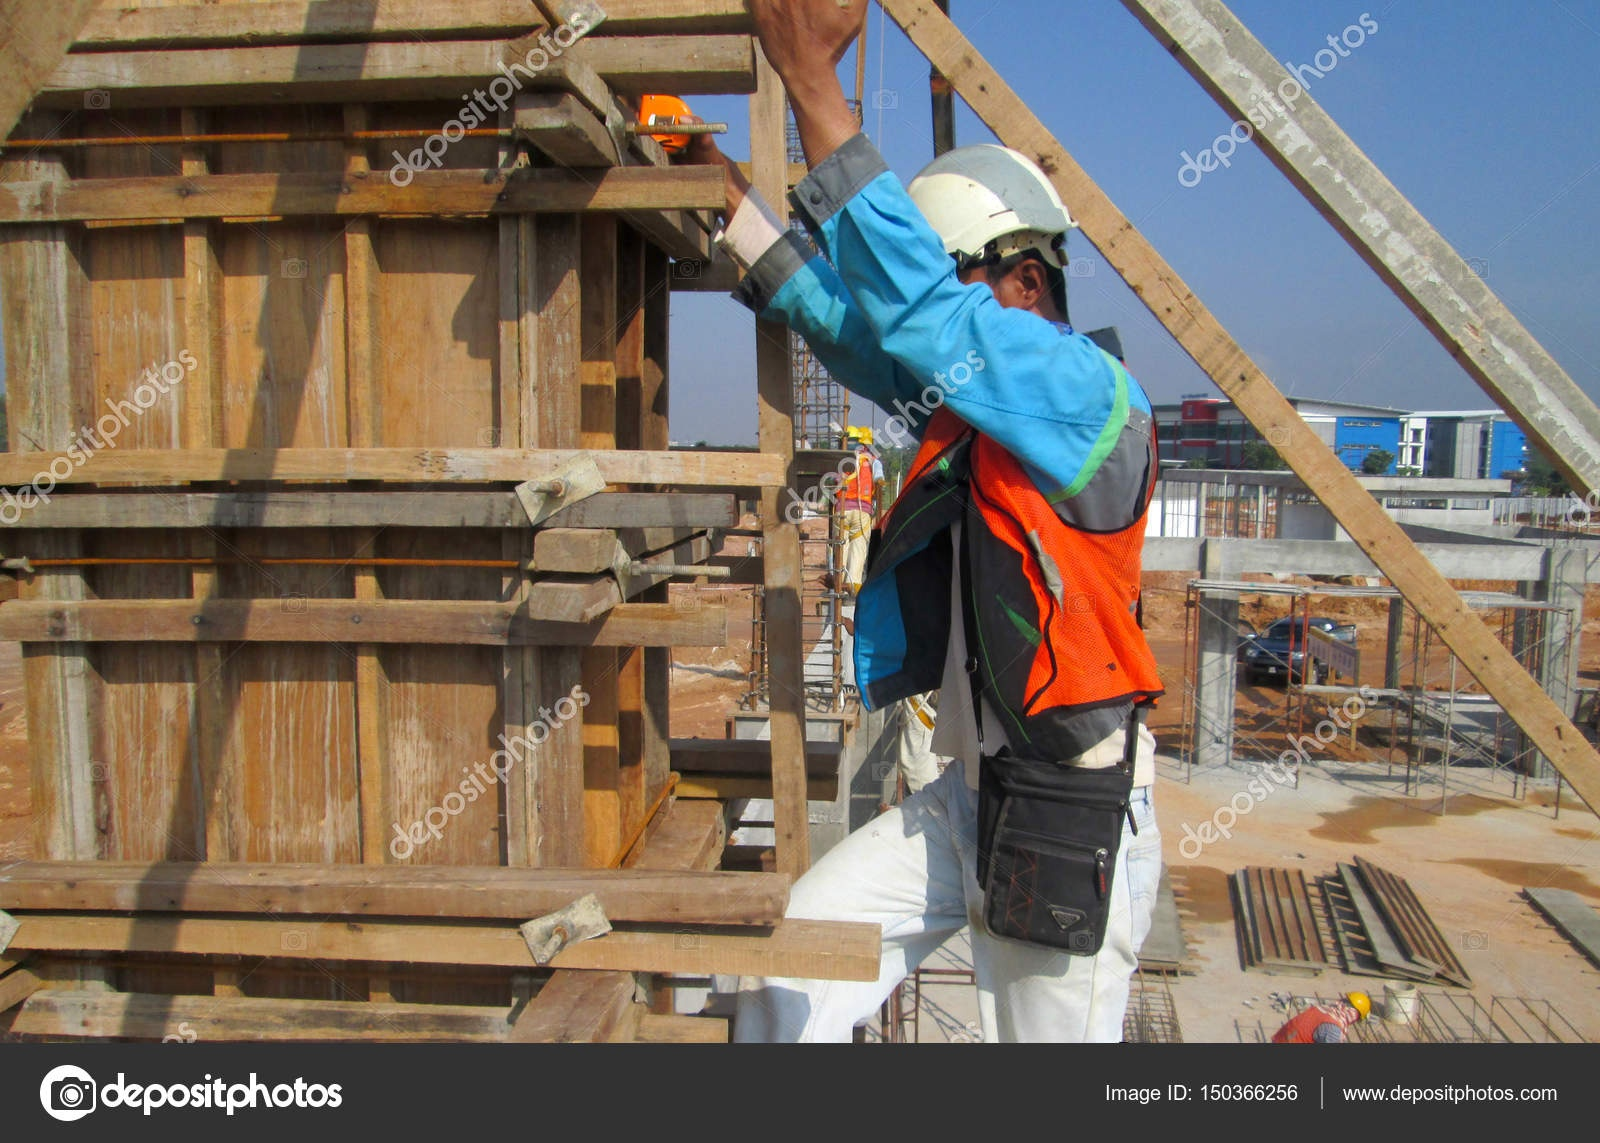white: (903, 142, 1070, 335)
